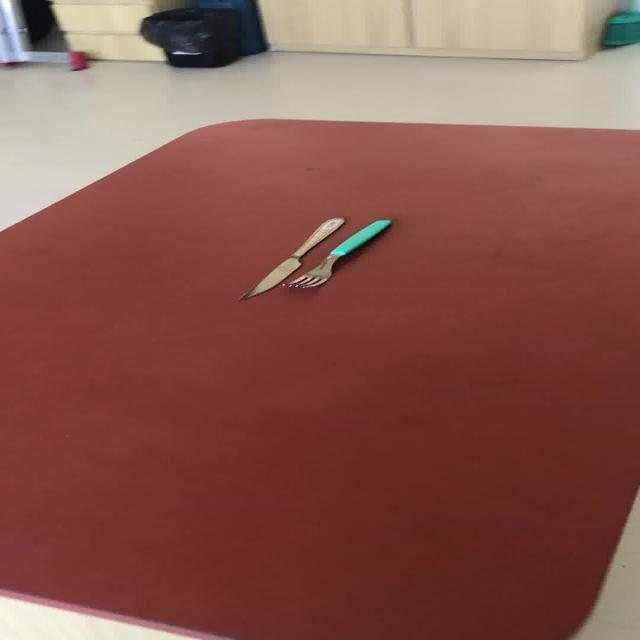fork: (280, 218, 392, 289)
knife fork: (236, 216, 345, 300)
